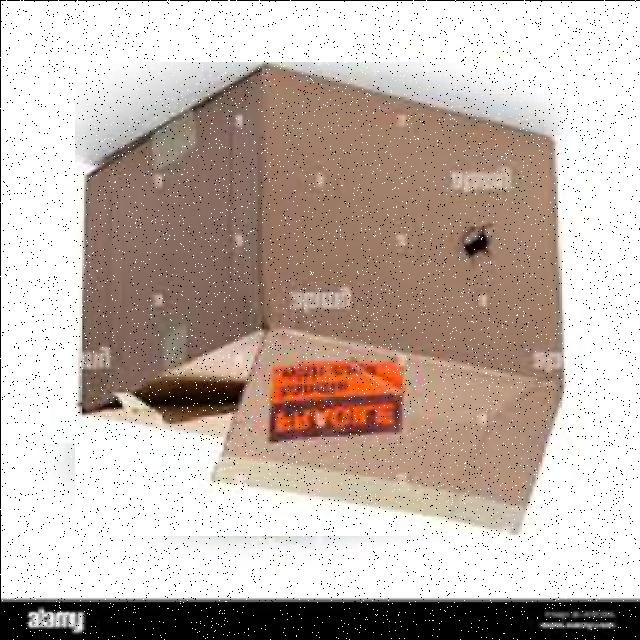defect: (74, 62, 571, 536)
